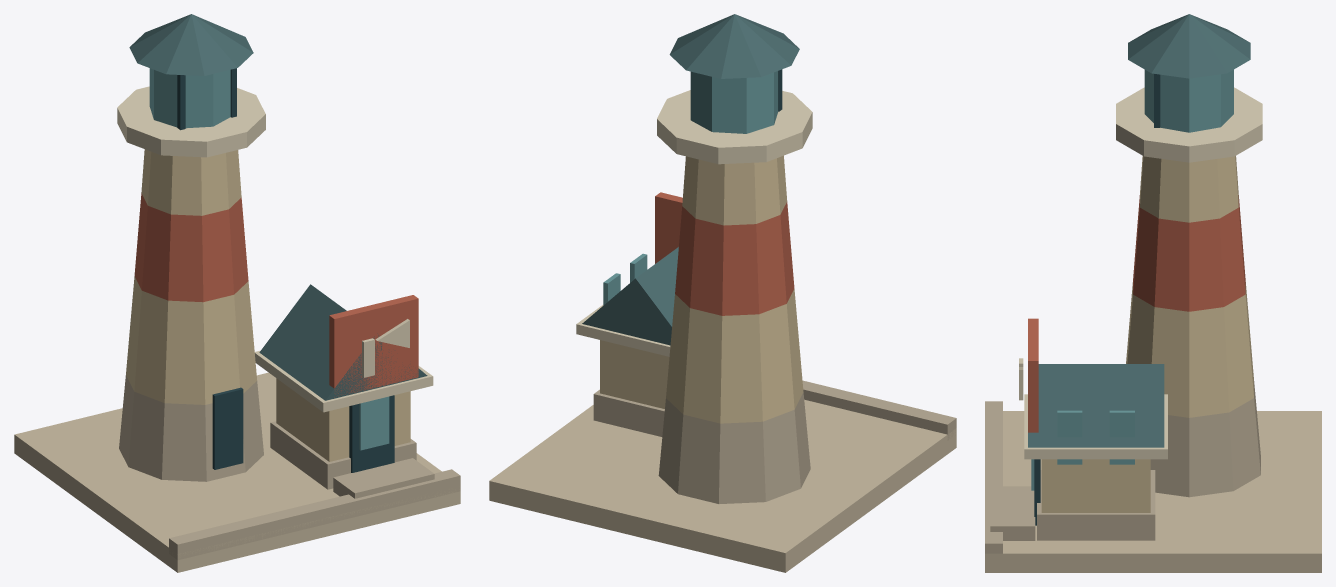
Rendered from lighthouse-sunrise-complete.glb.
3 views of the same model, side by side, from view 1: azimuth 30°, elevation 25°; view 2: azimuth 150°, elevation 25°; view 3: azimuth 270°, elevation 25° (orthographic). The views are drawn at different scales.
Visible parts, largest first — view 1: lighthouse; view 2: lighthouse; view 3: lighthouse.
Part boxes in pixels (left/top/right/bottom): lighthouse: left=14, top=14, right=460, bottom=572; lighthouse: left=489, top=14, right=956, bottom=572; lighthouse: left=985, top=14, right=1321, bottom=572.
Size of the model in its own units: 1.88 by 2.91 by 1.88.
